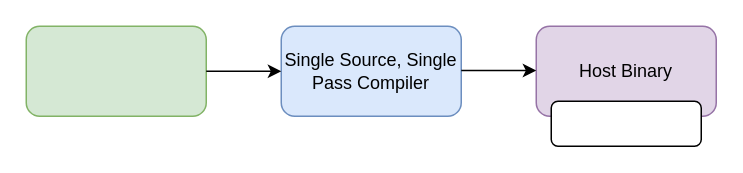
Image size: 743x173. Some labels were removed from this diagram. The shapes that lost their labels are listed below. From the top down, each one's centre as x and y in pixels, then its label:
pixel 115 70: C++/SYCL Code
pixel 625 123: Device Code as LLVM IR
